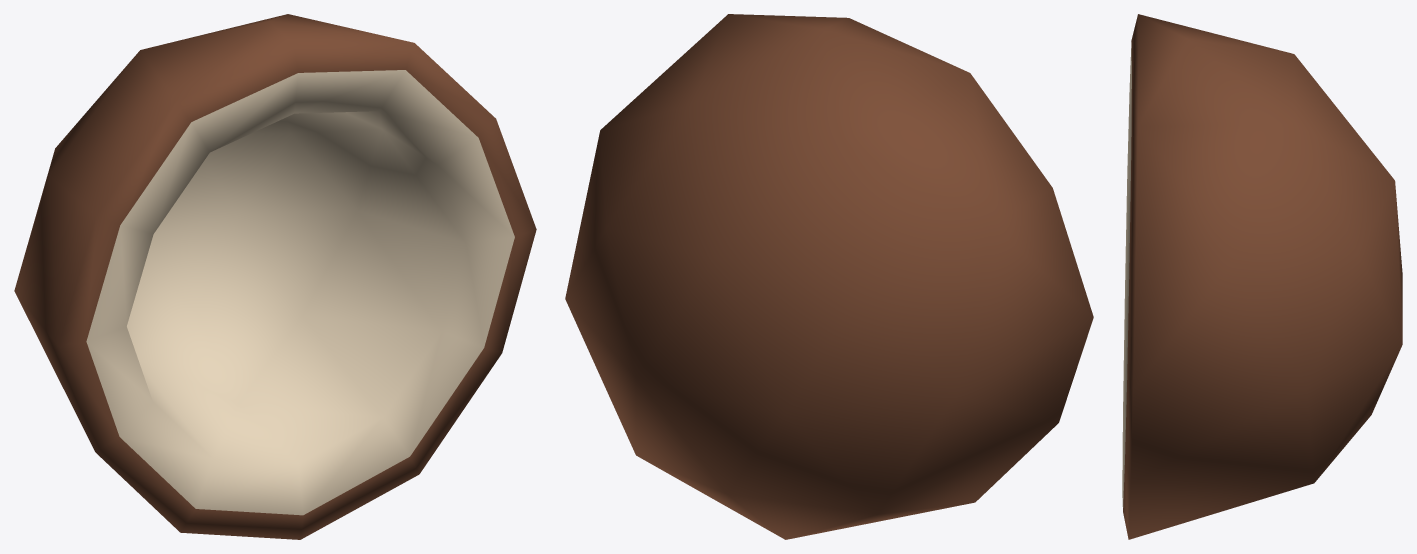
Rendered from HalfCoconat.fbx.
3 views of the same model, side by side, from view 1: azimuth 30°, elevation 25°; view 2: azimuth 150°, elevation 25°; view 3: azimuth 270°, elevation 25° (orthographic). The views are drawn at different scales.
Parts seen in each view (by area): view 1: Coconut_Half; view 2: Coconut_Half; view 3: Coconut_Half.
Boxes of the visible parts, x1,y1,x2,y2 form: Coconut_Half: [14, 14, 536, 539]; Coconut_Half: [565, 14, 1093, 539]; Coconut_Half: [1122, 14, 1402, 539].
Size of the model in its own units: 1.75 by 1.73 by 0.9196.
